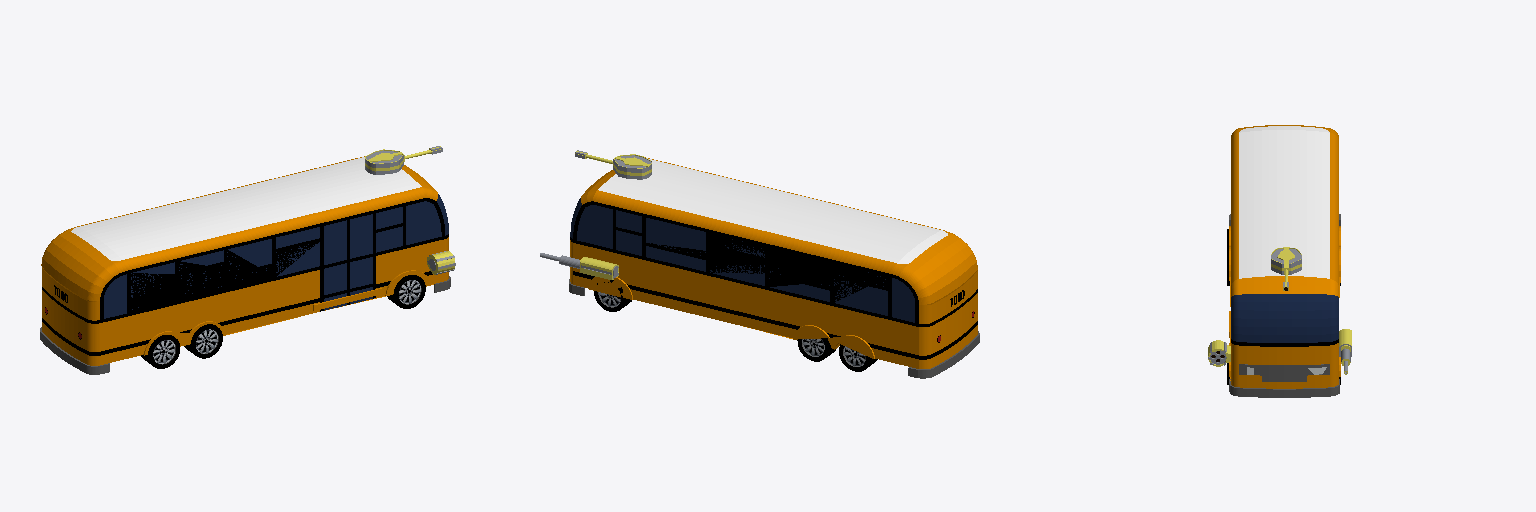
3 renders of one model, left to right at view 1: azimuth 30°, elevation 25°; view 2: azimuth 150°, elevation 25°; view 3: azimuth 270°, elevation 25°, orthographic.
Visible parts, largest first — view 1: Mesh2 Group4 Group3 Group2 Model, Mesh6 skp1185_1 Model, Mesh11 skp2D9D1 Model, Mesh15 skp2D9D3 Model, Mesh13 skp2D9D2 Model, Mesh3 skpA0EC1 Group3 Group2 Model; view 2: Mesh2 Group4 Group3 Group2 Model, Mesh6 skp1185_1 Model, Mesh4 skp59AB1 Group2 Model, Mesh19 skp2D9D5 Model, Mesh21 skp2D9D6 Model; view 3: Mesh2 Group4 Group3 Group2 Model, Mesh6 skp1185_1 Model.
Boxes of the visible parts, x1=… form: Mesh2 Group4 Group3 Group2 Model: x1=40, y1=156, x2=450, y2=374; Mesh6 skp1185_1 Model: x1=365, y1=149, x2=431, y2=174; Mesh11 skp2D9D1 Model: x1=387, y1=275, x2=425, y2=308; Mesh15 skp2D9D3 Model: x1=141, y1=335, x2=179, y2=368; Mesh13 skp2D9D2 Model: x1=184, y1=324, x2=222, y2=358; Mesh3 skpA0EC1 Group3 Group2 Model: x1=427, y1=251, x2=455, y2=274; Mesh2 Group4 Group3 Group2 Model: x1=569, y1=157, x2=979, y2=378; Mesh6 skp1185_1 Model: x1=586, y1=154, x2=651, y2=179; Mesh4 skp59AB1 Group2 Model: x1=540, y1=253, x2=618, y2=279; Mesh19 skp2D9D5 Model: x1=797, y1=338, x2=835, y2=361; Mesh21 skp2D9D6 Model: x1=839, y1=344, x2=877, y2=371; Mesh2 Group4 Group3 Group2 Model: x1=1229, y1=125, x2=1340, y2=397; Mesh6 skp1185_1 Model: x1=1271, y1=247, x2=1301, y2=281.
Bounding box in the file's own units: 12.28 × 3.91 × 3.97.
Materials: 14 (1 with a texture image).